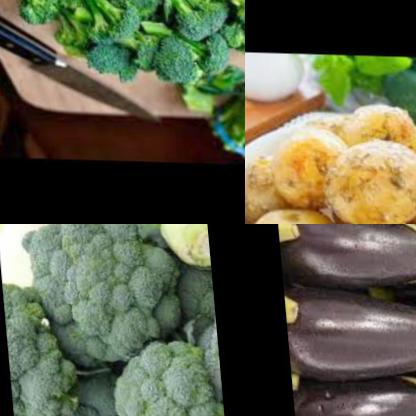broccoli: (0, 0, 245, 89), (47, 224, 167, 363), (0, 273, 81, 416), (94, 327, 223, 416)
cucumber: (367, 53, 416, 137)
eggplant: (280, 295, 416, 380), (274, 224, 416, 288), (285, 364, 416, 416)
potato: (314, 137, 416, 224), (264, 120, 354, 208), (331, 94, 416, 153), (245, 142, 305, 222), (245, 196, 334, 224), (396, 131, 416, 183)
